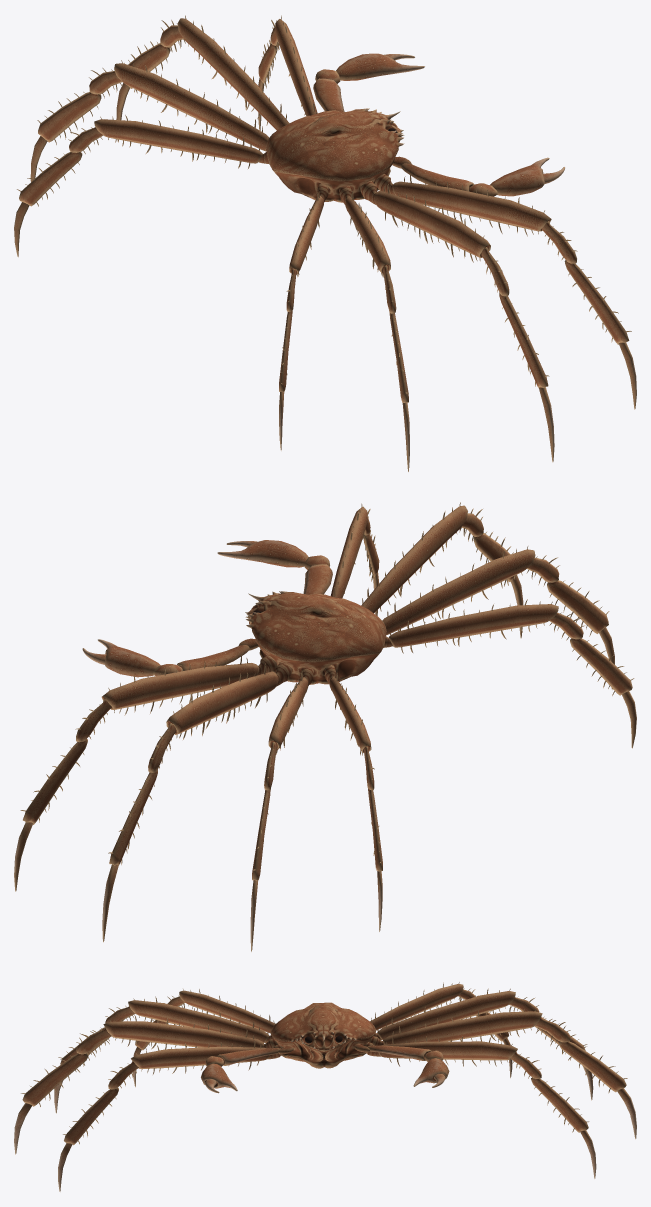
The model's file is cangrejo1.glb.
3 views of the same model, one above another, from view 1: azimuth 30°, elevation 25°; view 2: azimuth 150°, elevation 25°; view 3: azimuth 270°, elevation 25° (orthographic). The views are drawn at different scales.
Parts seen in each view (by area): view 1: Crab; view 2: Crab; view 3: Crab.
Boxes of the visible parts, x1,y1,x2,y2 form: Crab: [14, 15, 636, 471]; Crab: [14, 502, 636, 951]; Crab: [14, 982, 636, 1191].
Size of the model in its own units: 2.36 by 1.27 by 4.92.
1 material, 1 textured.
